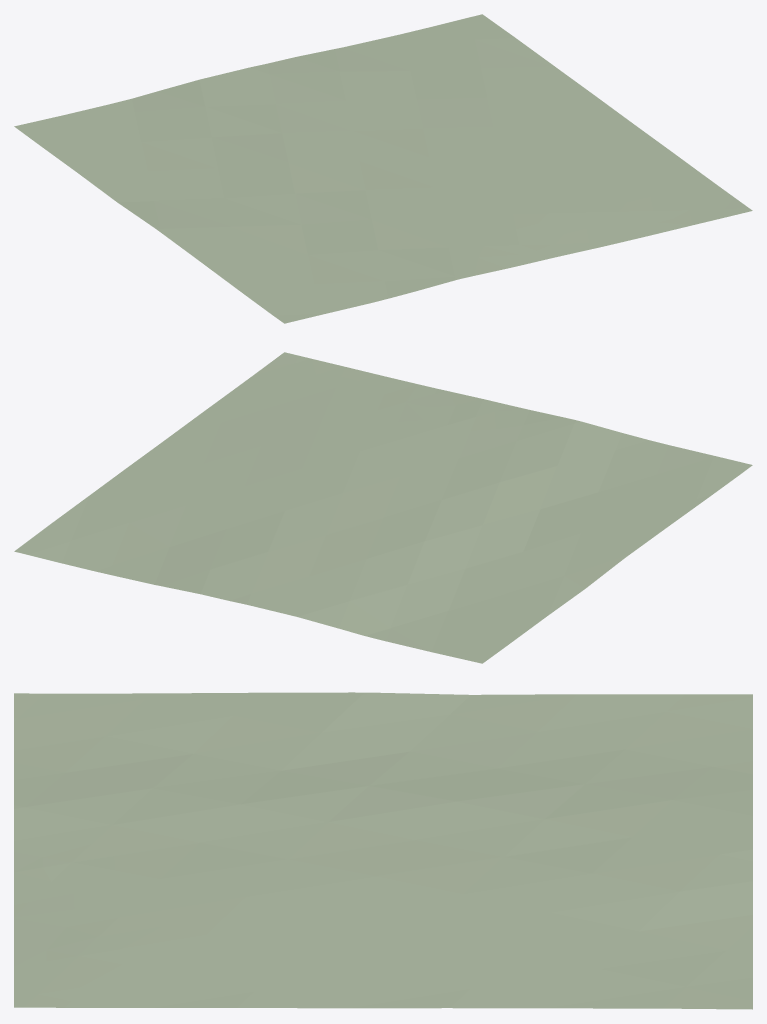
Rendered from SM_MPRR_Terrain_-2_1.fbx.
The picture shows the model from 3 angles, top to bottom: view 1: azimuth 30°, elevation 25°; view 2: azimuth 150°, elevation 25°; view 3: azimuth 270°, elevation 25°; orthographic projection. The views are drawn at different scales.
Visible parts, largest first — view 1: SM_MPRR_Terrain_-2_1; view 2: SM_MPRR_Terrain_-2_1; view 3: SM_MPRR_Terrain_-2_1.
Boxes of the visible parts, bbox=[...] form: SM_MPRR_Terrain_-2_1: bbox=[14, 14, 752, 323]; SM_MPRR_Terrain_-2_1: bbox=[14, 352, 752, 663]; SM_MPRR_Terrain_-2_1: bbox=[14, 692, 752, 1009].
Bounding box in the file's own units: 15000 × 15000 × 149.
